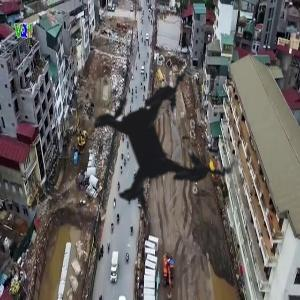drone: (30, 13, 288, 271)
